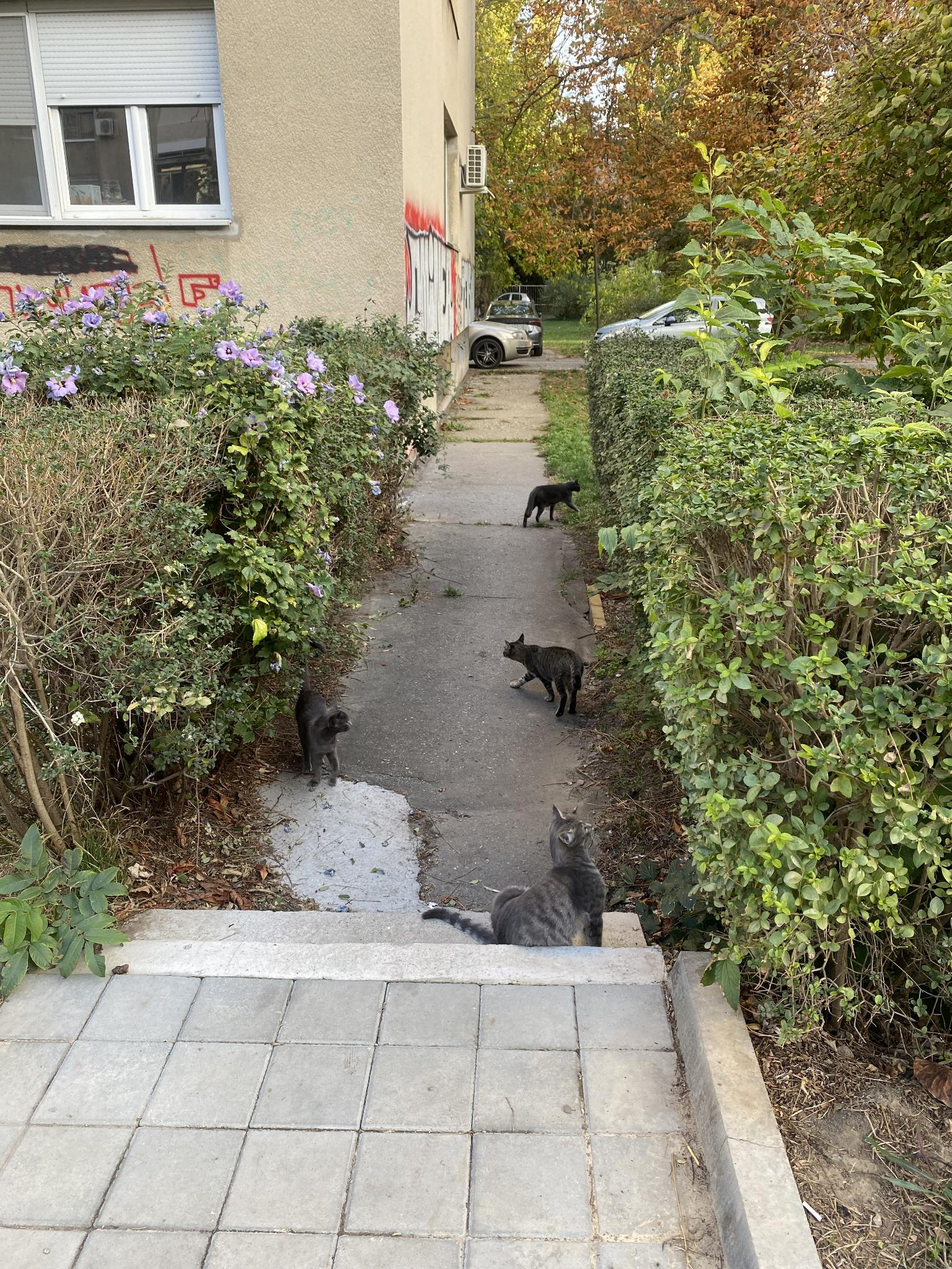macka: (421, 804, 604, 947), (294, 640, 353, 787), (503, 633, 585, 718), (522, 477, 582, 527)
